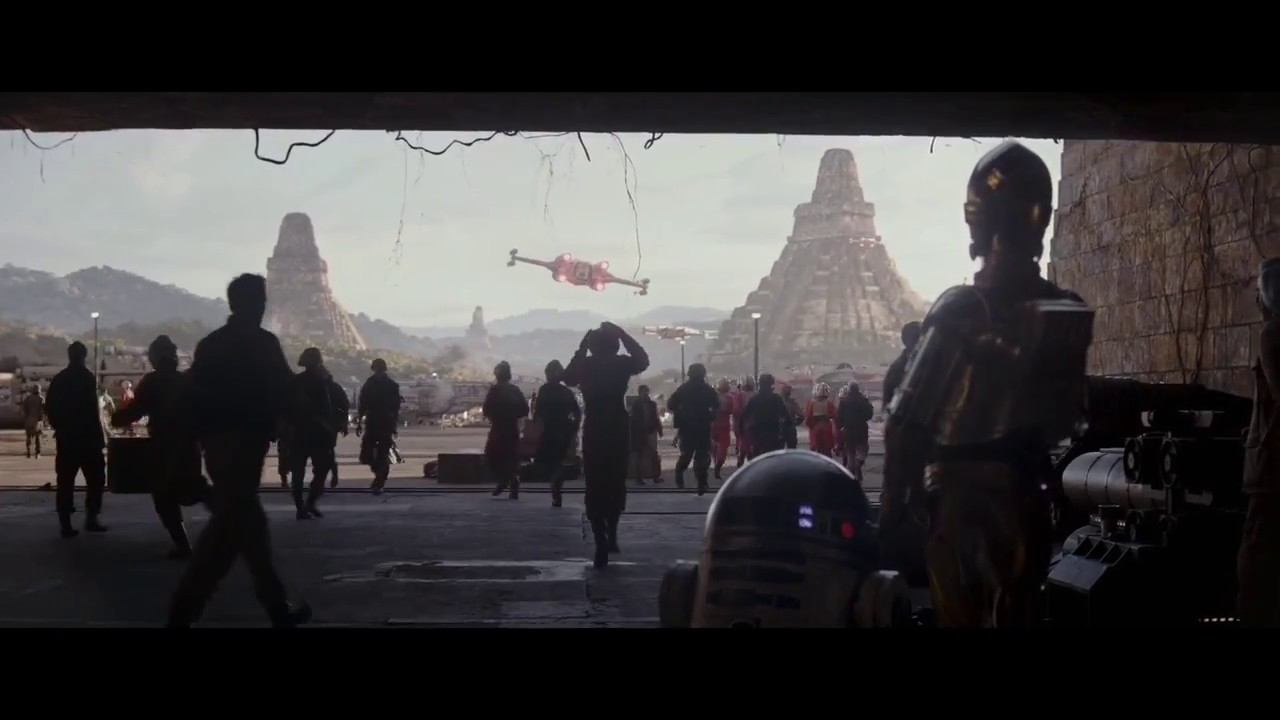r2d2: (658, 446, 911, 625)
